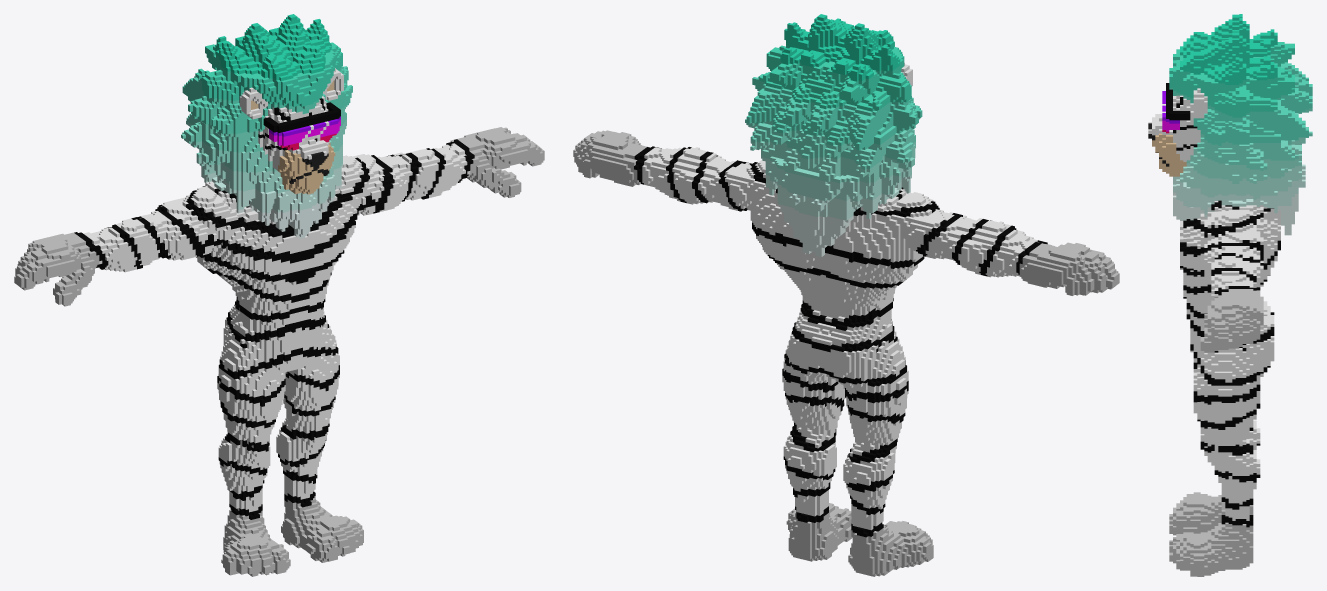
The model's file is 704-CCMMWv85.glb.
3 views of the same model, side by side, from view 1: azimuth 30°, elevation 25°; view 2: azimuth 150°, elevation 25°; view 3: azimuth 270°, elevation 25° (orthographic). The views are drawn at different scales.
Parts seen in each view (by area): view 1: sad; view 2: sad; view 3: sad.
Part boxes in pixels (x1,y1,x2,y2): sad: [14, 14, 544, 576]; sad: [573, 14, 1119, 576]; sad: [1148, 14, 1312, 576].
Size of the model in its own units: 17.2 by 16.5 by 4.7.
Materials: 4 (4 with a texture image).
